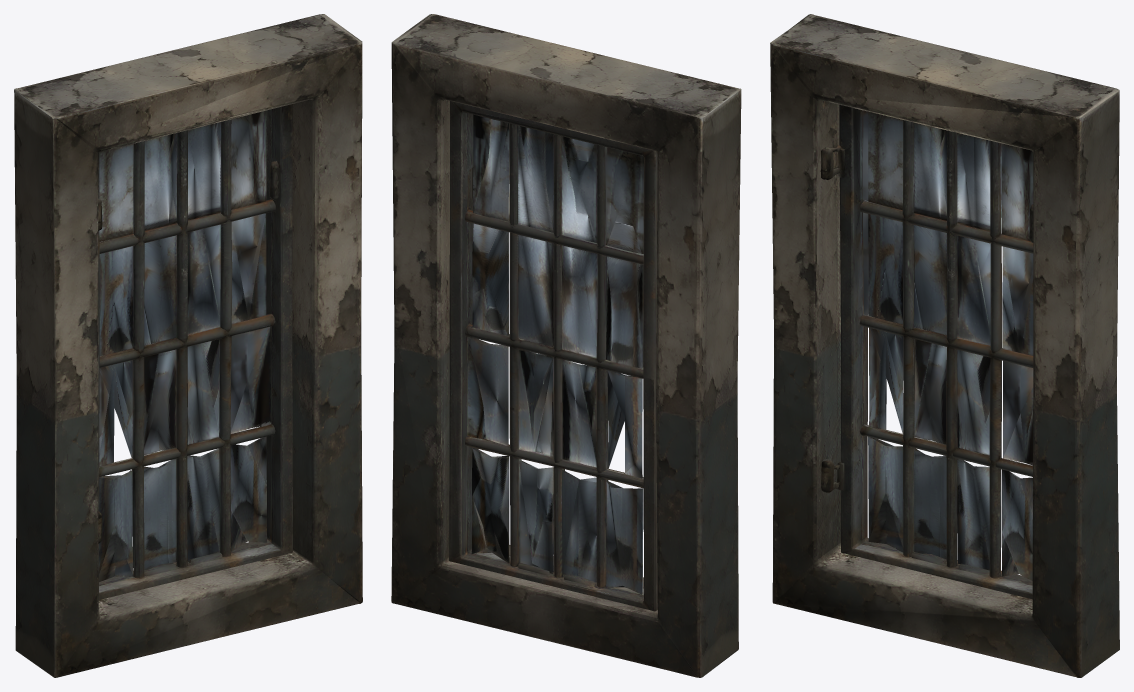
The model's file is window.fbx.
3 views of the same model, side by side, from view 1: azimuth 30°, elevation 25°; view 2: azimuth 150°, elevation 25°; view 3: azimuth 330°, elevation 25° (orthographic).
Parts seen in each view (by area): view 1: window; view 2: window; view 3: window.
Part boxes in pixels (<box>): window: <box>14,14,362,677</box>; window: <box>391,14,741,677</box>; window: <box>770,14,1119,677</box>.
Size of the model in its own units: 462 by 794 by 105.
Materials: 1 (1 with a texture image).
